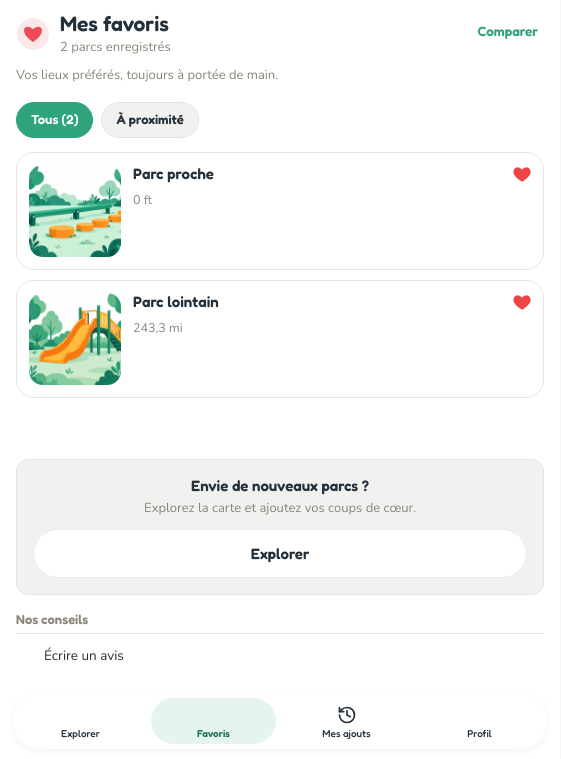
Test: Favorites — filters › filters to nearby favorites using the real position and the map's default radius, without changing the 'Tous' count
The image size is (561, 759).
Expected: the text "Parc proche" is shown, [133,164,214,183]
Expected: the button "Tous (2)" is shown, [16,102,93,138]
Click the button "À proximité" at [150, 120], box [101,102,199,138]
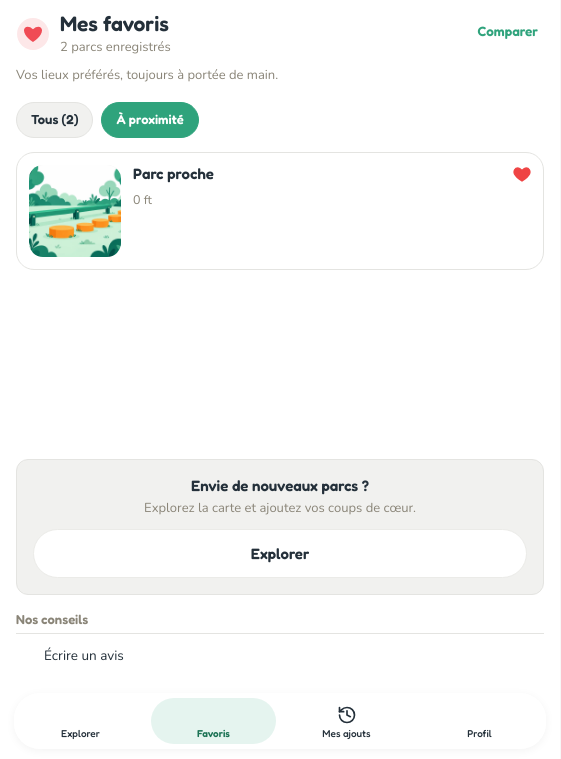
Expected: the text "Parc proche" is shown, [133,164,214,183]
Result: the button "Parc lointain" is gone
